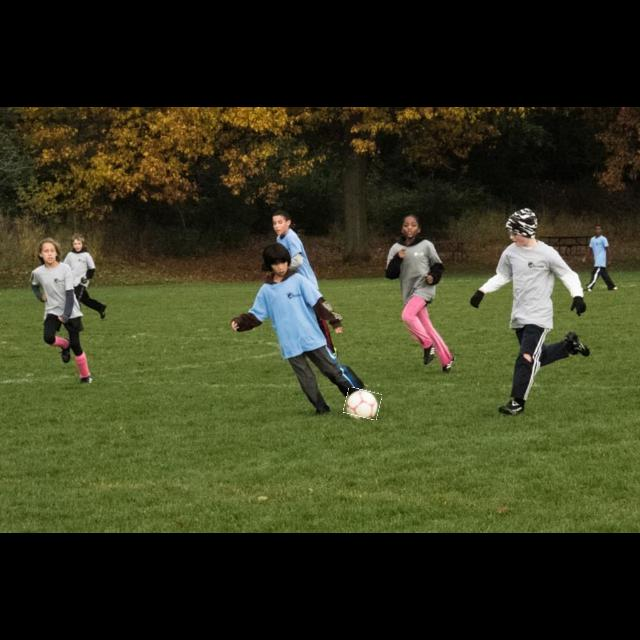Football: (345, 389, 381, 419)
